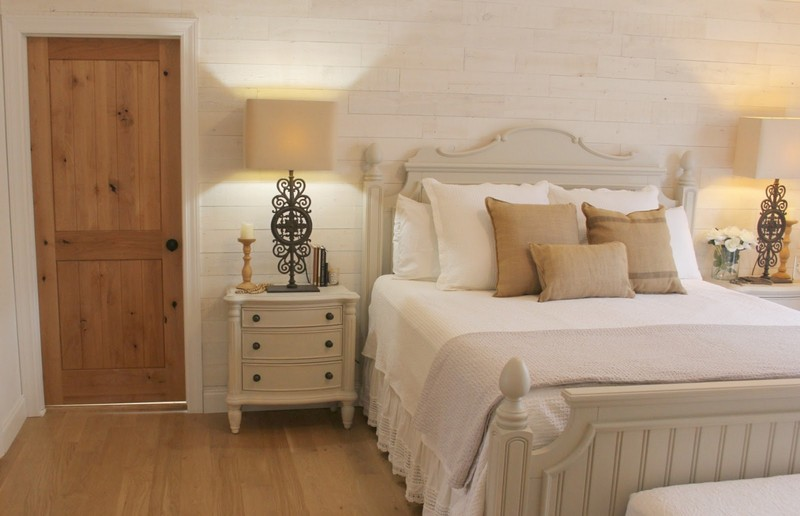bed: (370, 125, 797, 507)
door: (25, 24, 195, 420)
lamp: (239, 87, 341, 288), (731, 114, 799, 285)
stool: (224, 281, 360, 444)
